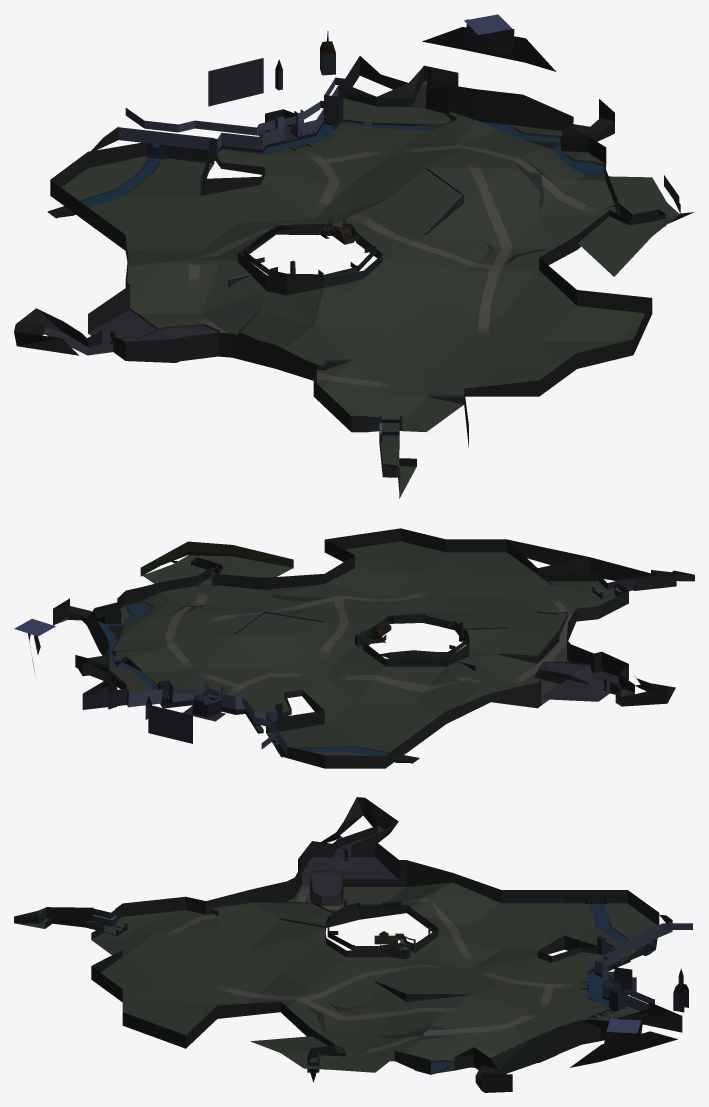
Rendered from hyrulefield.obj.
The picture shows the model from 3 angles, top to bottom: view 1: azimuth 30°, elevation 25°; view 2: azimuth 150°, elevation 25°; view 3: azimuth 270°, elevation 25°; orthographic projection. The views are drawn at different scales.
Visible parts, largest first — view 1: spot00; view 2: spot00; view 3: spot00.
Boxes of the visible parts, x1,y1,x2,y2 form: spot00: [14, 14, 694, 498]; spot00: [14, 528, 694, 768]; spot00: [14, 797, 692, 1092].
Bounding box in the file's own units: 17680 × 2502 × 18340.
